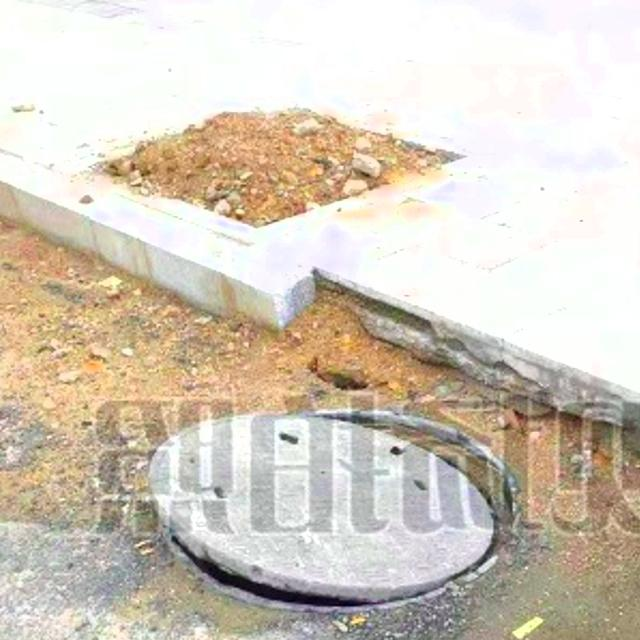uncovered: (150, 404, 522, 612)
